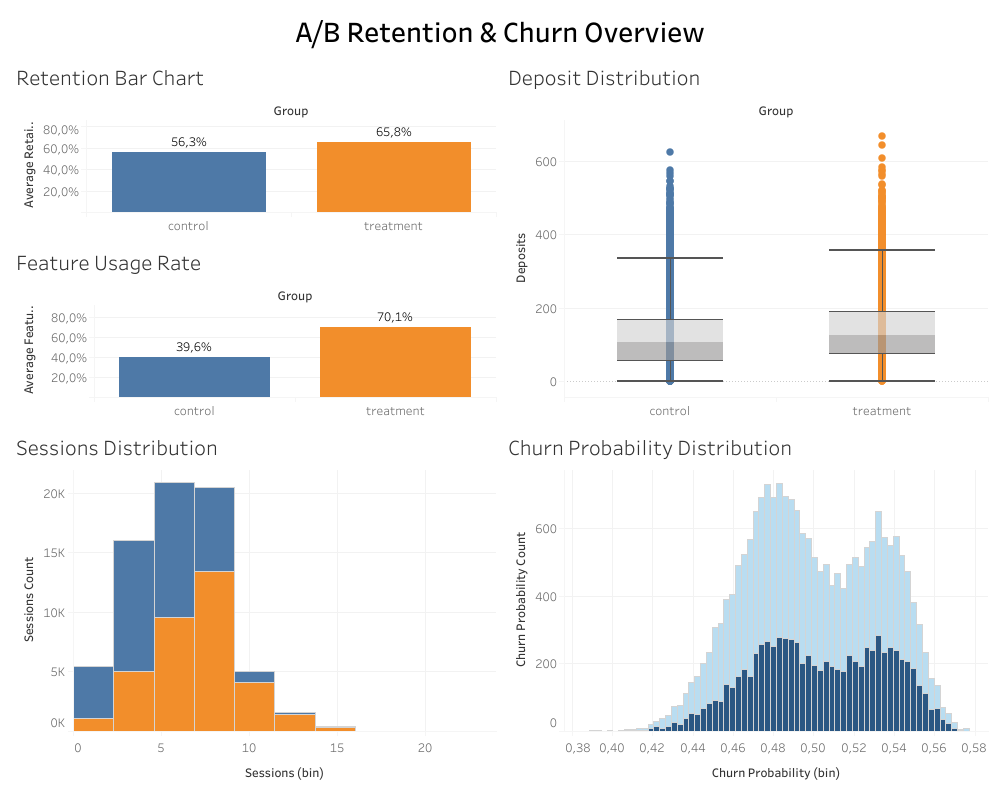

What the dashboard file says about the page in this screenshot:
{"tool":"tableau","page":{"name":"Retention Analysis Dashboard","canvas":[1000,800],"ordinal":0},"visuals":[{"type":"text","box":[8,8,984,45]},{"type":"worksheet","title":"Retention Bar Chart","mark":"Automatic","rows":["Calculation_14777437497397323"],"cols":["group"],"box":[8,53,492,184.8]},{"type":"worksheet","title":"Deposit Distribution","mark":"Circle","rows":["deposits"],"cols":["group"],"box":[500,53,492,369.5]},{"type":"worksheet","title":"Feature Usage Rate","mark":"Automatic","rows":["feature_used"],"cols":["group"],"box":[8,237.8,492,184.8]},{"type":"worksheet","title":"Sessions Distribution","mark":"Automatic","rows":["sessions"],"cols":["Sessions (bin)"],"box":[8,422.5,492,369.5]},{"type":"worksheet","title":"Churn Probability Distribution","mark":"Automatic","rows":["churn_probability"],"cols":["Churn Probability (contenitore)"],"box":[500,422.5,492,369.5]}]}

Visuals, with their boxes in screenshot pixels (x1, y1, x2, y2), scaled from the page's 1000x800 canvas onto the 999x799 screenshot:
text: 8:8:991:53
"Retention Bar Chart" worksheet: 8:53:500:238
"Deposit Distribution" worksheet (Circle marks): 500:53:991:422
"Feature Usage Rate" worksheet: 8:238:500:422
"Sessions Distribution" worksheet: 8:422:500:791
"Churn Probability Distribution" worksheet: 500:422:991:791
